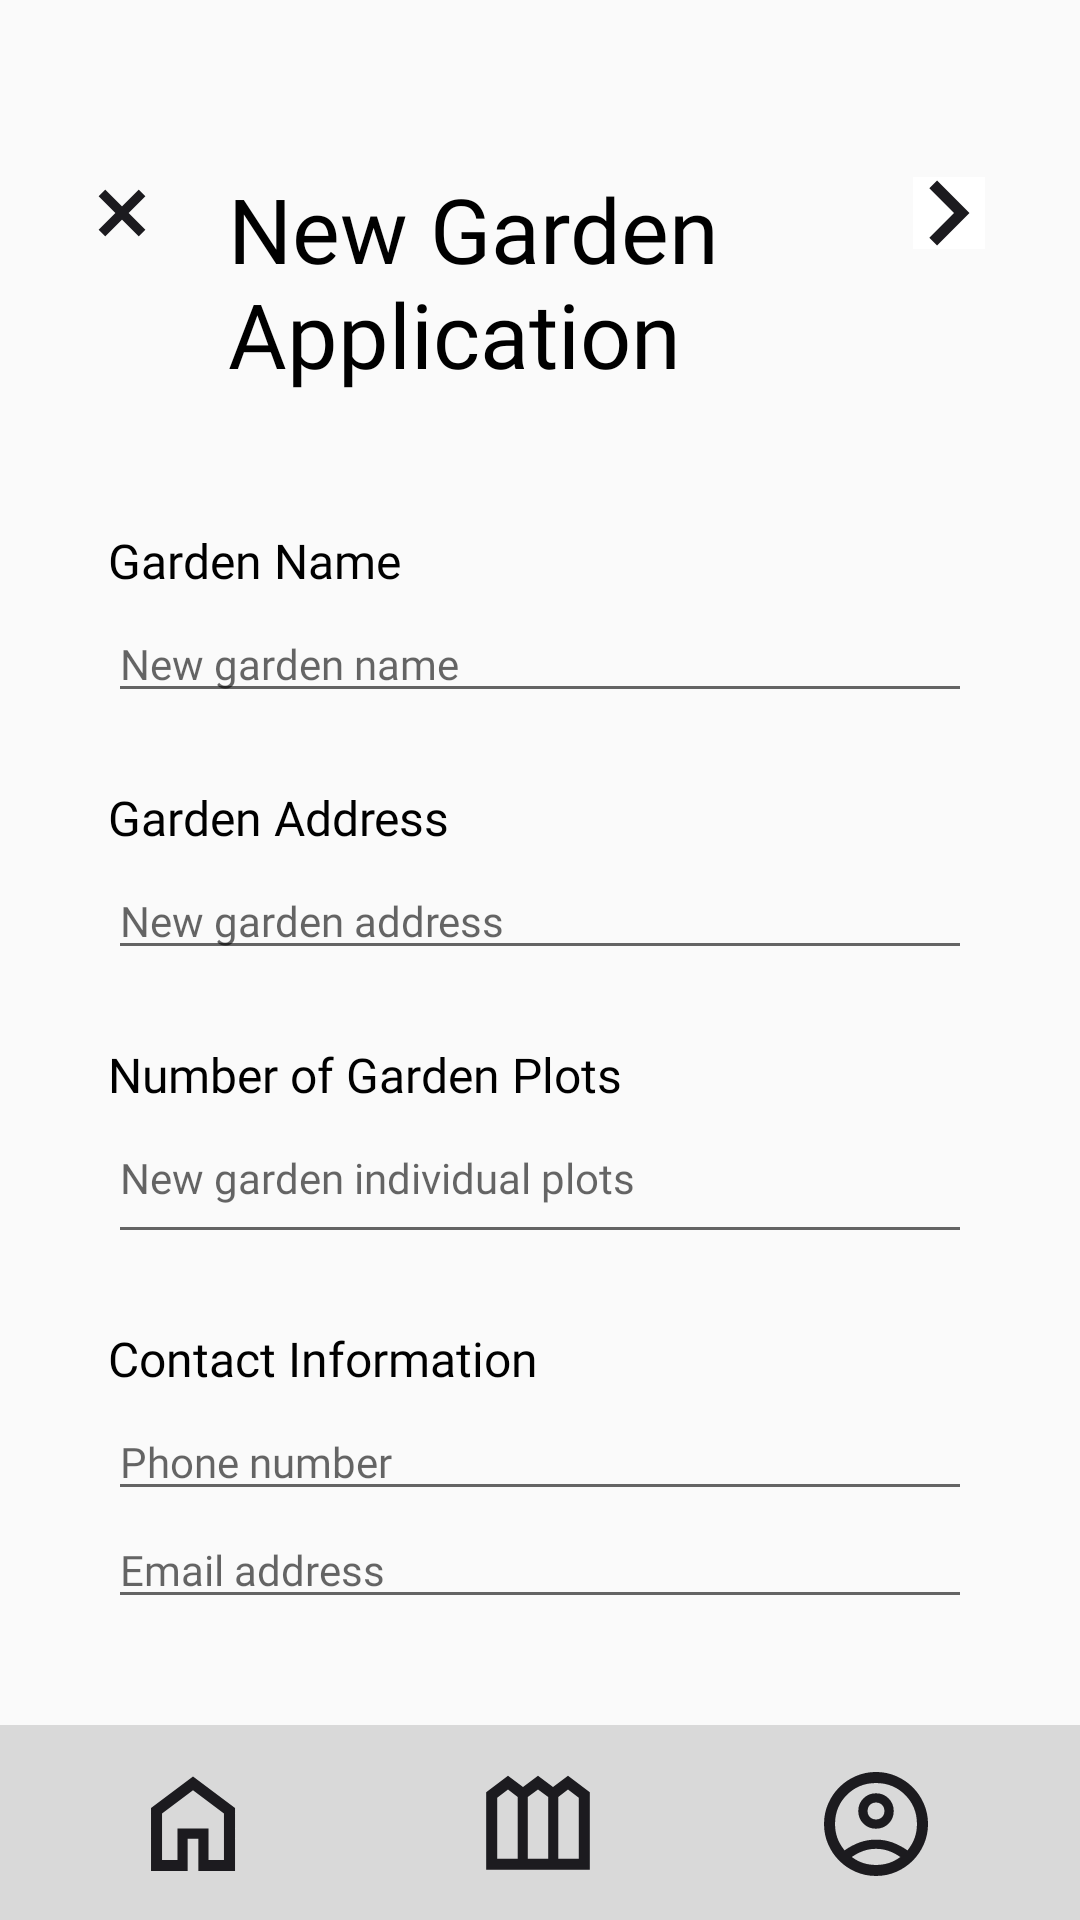

Screen size 1080*1920. Icon name, then its center in pixels as (x,y):
arrow forward: (949,213)
close: (122,213)
home: (193,1823)
outdoor garden: (538,1823)
